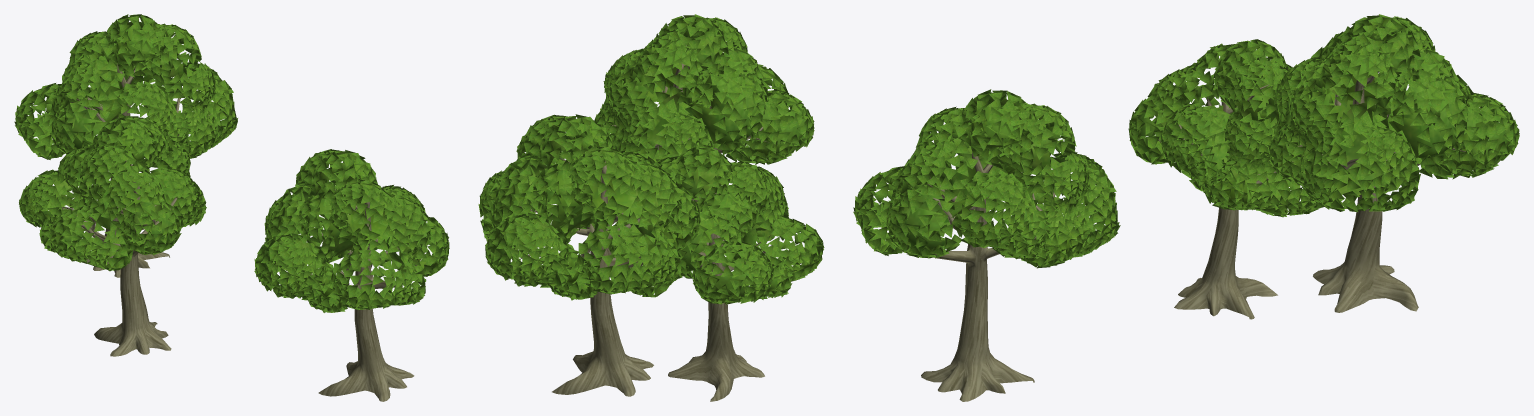
The model's file is SM_ENV_LKNVLD_TreeSet_L.FBX.
3 views of the same model, side by side, from view 1: azimuth 30°, elevation 25°; view 2: azimuth 150°, elevation 25°; view 3: azimuth 270°, elevation 25° (orthographic). The views are drawn at different scales.
Parts seen in each view (by area): view 1: SM_ENV_LKNVLD_TreeSet_L; view 2: SM_ENV_LKNVLD_TreeSet_L; view 3: SM_ENV_LKNVLD_TreeSet_L.
Part boxes in pixels (left/top/right/bottom): SM_ENV_LKNVLD_TreeSet_L: left=14, top=14, right=449, bottom=401; SM_ENV_LKNVLD_TreeSet_L: left=478, top=14, right=824, bottom=401; SM_ENV_LKNVLD_TreeSet_L: left=853, top=14, right=1519, bottom=401.
Size of the model in its own units: 1485 by 1362 by 2534.
